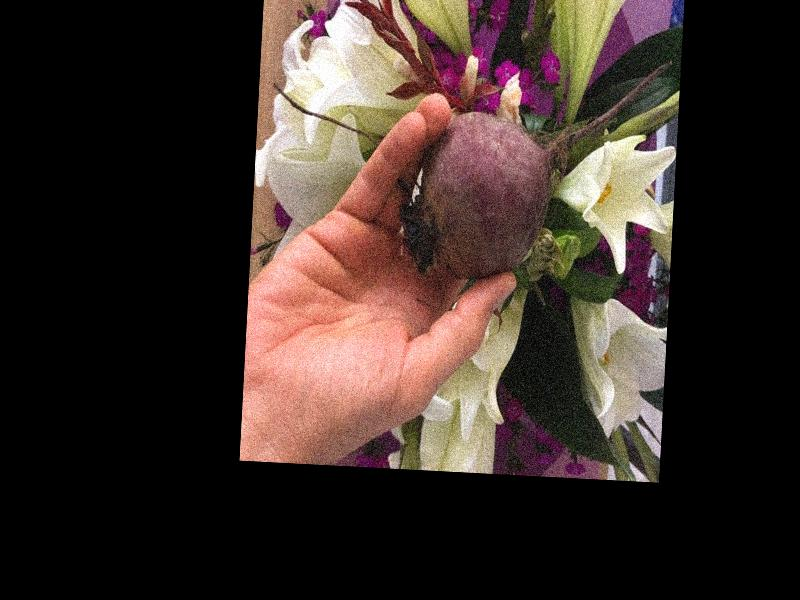Beet: (398, 45, 670, 288)
